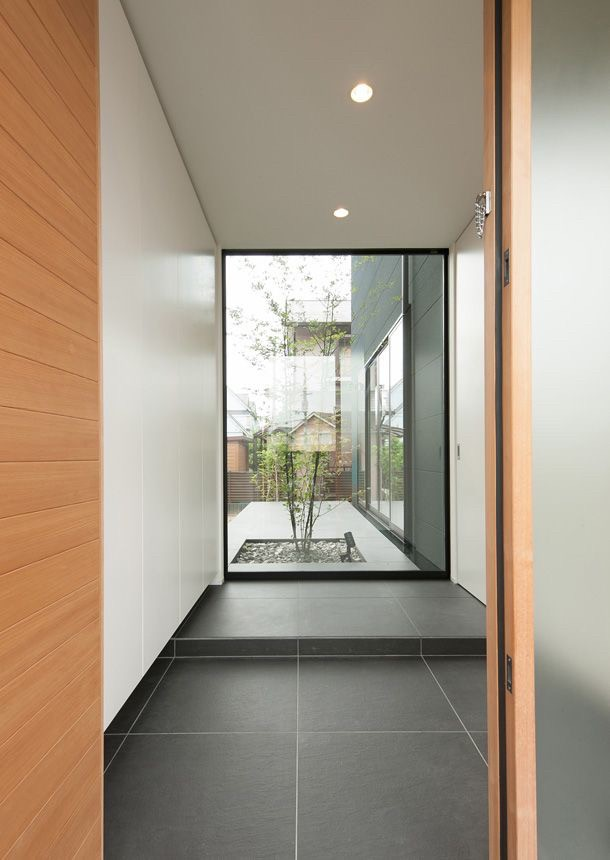floor: (104, 656, 488, 859)
